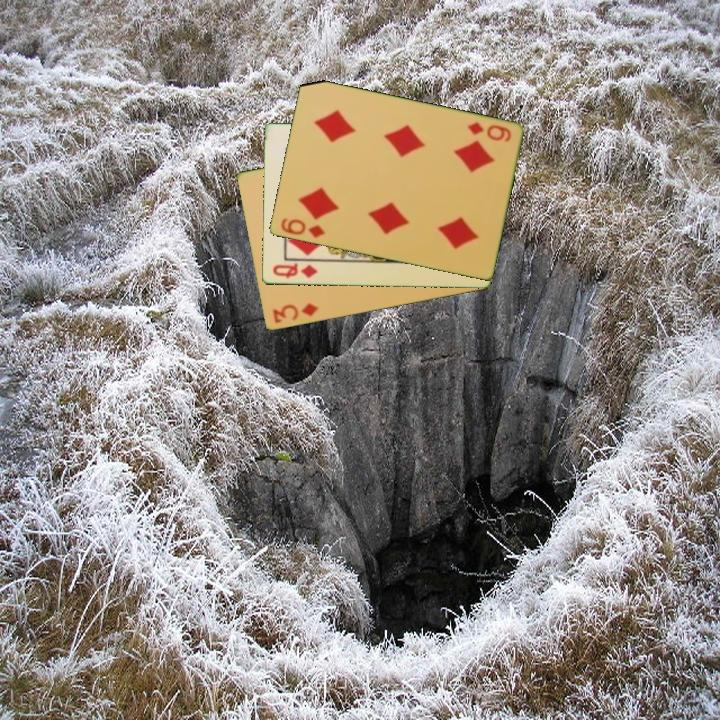3d: (269, 300, 321, 326)
6d: (277, 215, 328, 241), (464, 119, 514, 145)
Qd: (269, 260, 320, 282)
